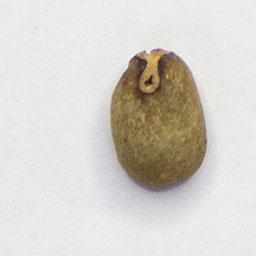defect: (107, 46, 210, 192)
